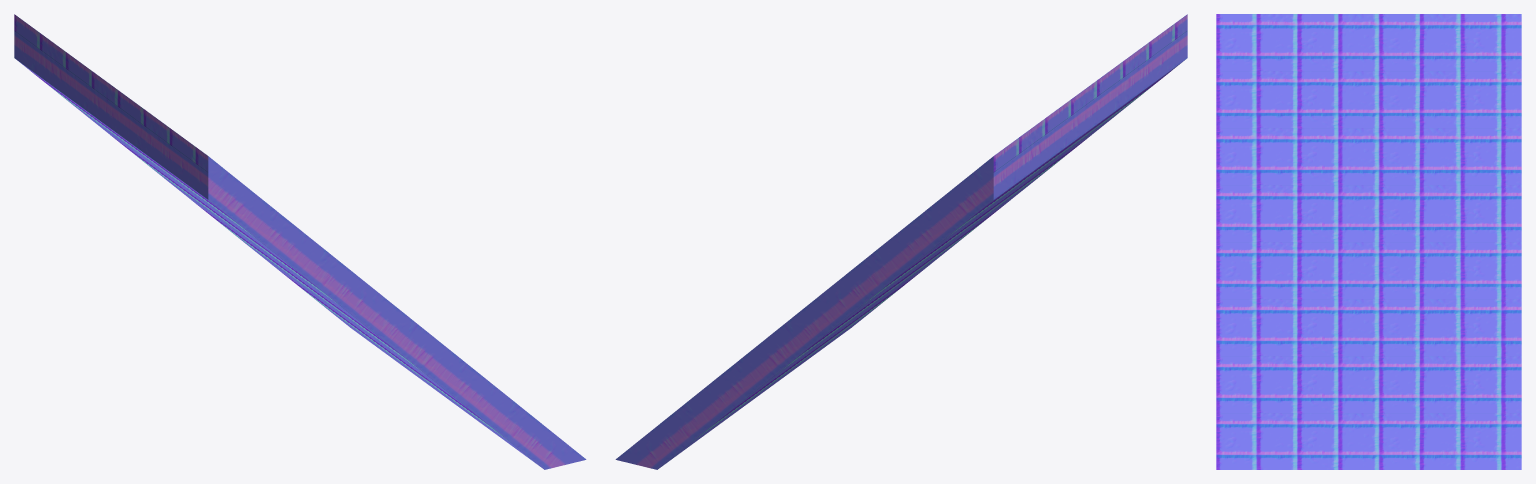
Rendered from sm_roof_slanted_01.fbx.
3 views of the same model, side by side, from view 1: azimuth 30°, elevation 25°; view 2: azimuth 150°, elevation 25°; view 3: azimuth 270°, elevation 25° (orthographic). The views are drawn at different scales.
Visible parts, largest first — view 1: sm_roof_slanted_01; view 2: sm_roof_slanted_01; view 3: sm_roof_slanted_01.
Boxes of the visible parts, x1,y1,x2,y2 form: sm_roof_slanted_01: (14,14,586,469); sm_roof_slanted_01: (615,14,1187,469); sm_roof_slanted_01: (1216,14,1521,469).
Bounding box in the file's own units: 450 × 450 × 400.
